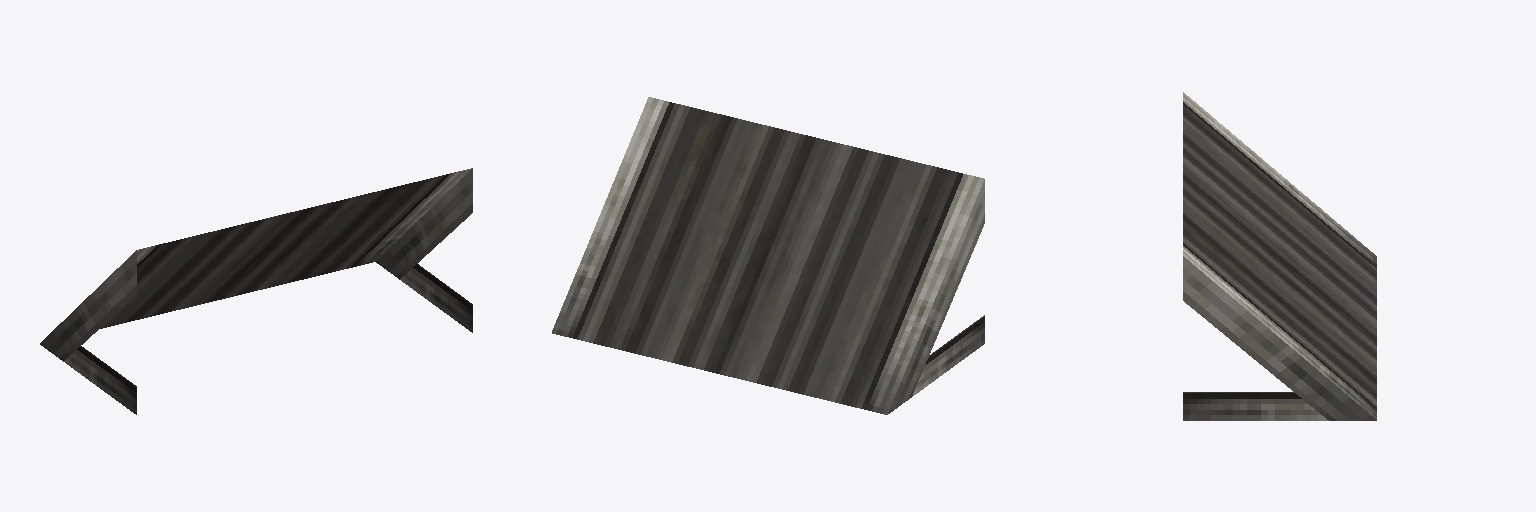
3 views of the same model, side by side, from view 1: azimuth 30°, elevation 25°; view 2: azimuth 150°, elevation 25°; view 3: azimuth 270°, elevation 25° (orthographic).
Visible parts, largest first — view 1: detailAwning_small; view 2: detailAwning_small; view 3: detailAwning_small.
Boxes of the visible parts, box(x1,y1,x2,y2) form: detailAwning_small: box(40, 168, 472, 414); detailAwning_small: box(552, 97, 984, 414); detailAwning_small: box(1183, 92, 1376, 420).
Size of the model in its own units: 0.5978 by 0.2808 by 0.3.
Materials: 1 (1 with a texture image).